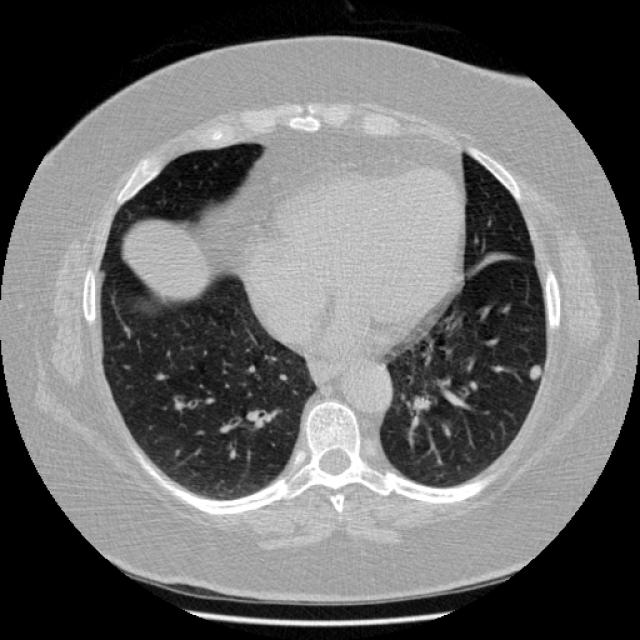nodule: (519, 356, 549, 386)
